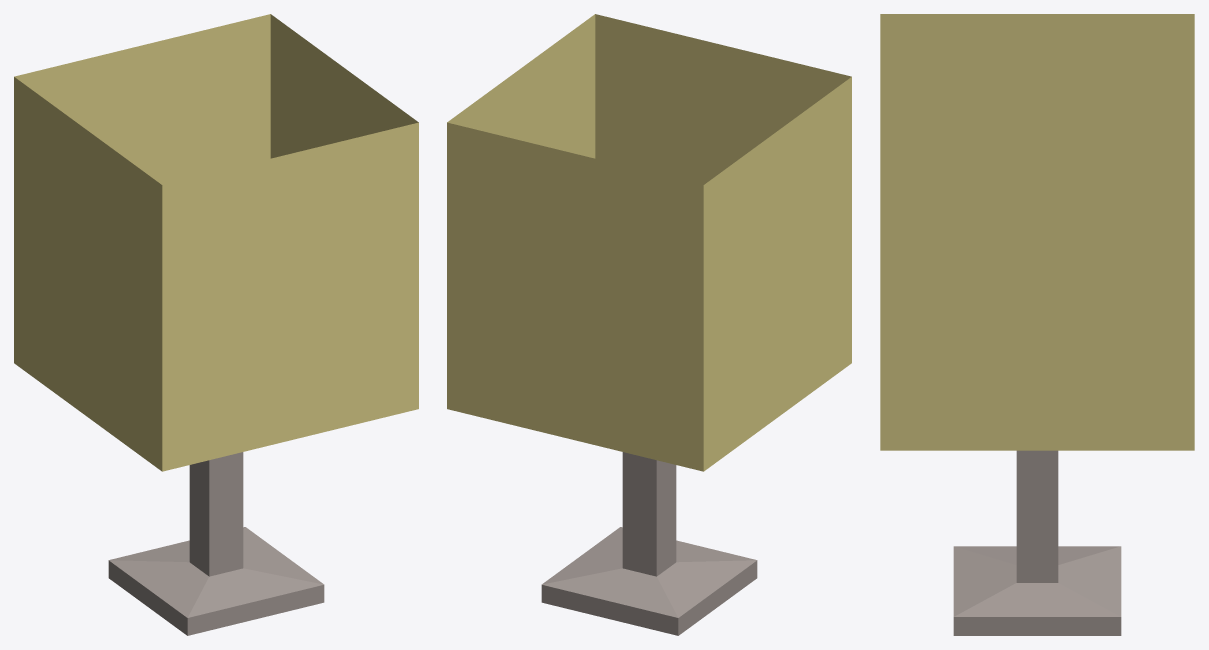
File: lamop.fbx
3 views of the same model, side by side, from view 1: azimuth 30°, elevation 25°; view 2: azimuth 150°, elevation 25°; view 3: azimuth 270°, elevation 25° (orthographic). The views are drawn at different scales.
Visible parts, largest first — view 1: Plane.004; view 2: Plane.004; view 3: Plane.004.
Part boxes in pixels (x1,y1,x2,y2): Plane.004: [14, 14, 418, 635]; Plane.004: [447, 14, 851, 635]; Plane.004: [880, 14, 1194, 635].
Bounding box in the file's own units: 118 × 215 × 118.
